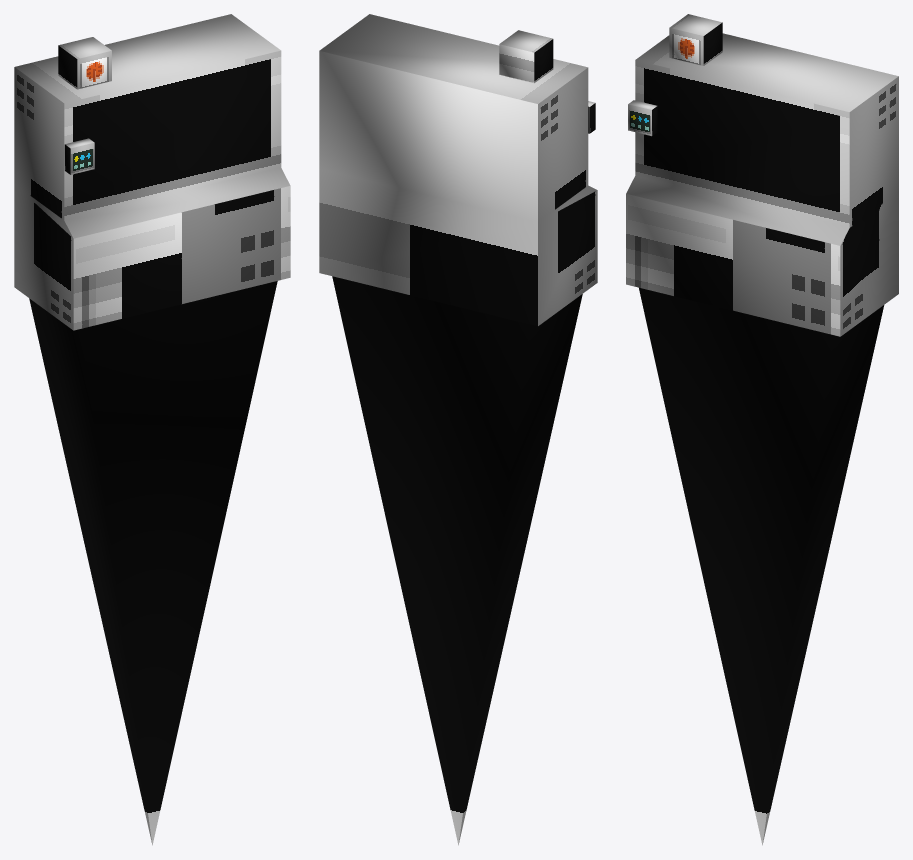
3 renders of one model, left to right at view 1: azimuth 30°, elevation 25°; view 2: azimuth 150°, elevation 25°; view 3: azimuth 330°, elevation 25°, orthographic. The views are drawn at different scales.
Visible parts, largest first — view 1: 3791kg_sh1_14; view 2: 3791kg_sh1_14; view 3: 3791kg_sh1_14.
Boxes of the visible parts, <box> form: 3791kg_sh1_14: <box>14,14,290,845</box>; 3791kg_sh1_14: <box>319,14,597,845</box>; 3791kg_sh1_14: <box>626,14,898,845</box>.
Size of the model in its own units: 1.9 by 6.81 by 0.897.
Materials: 3 (3 with a texture image).
